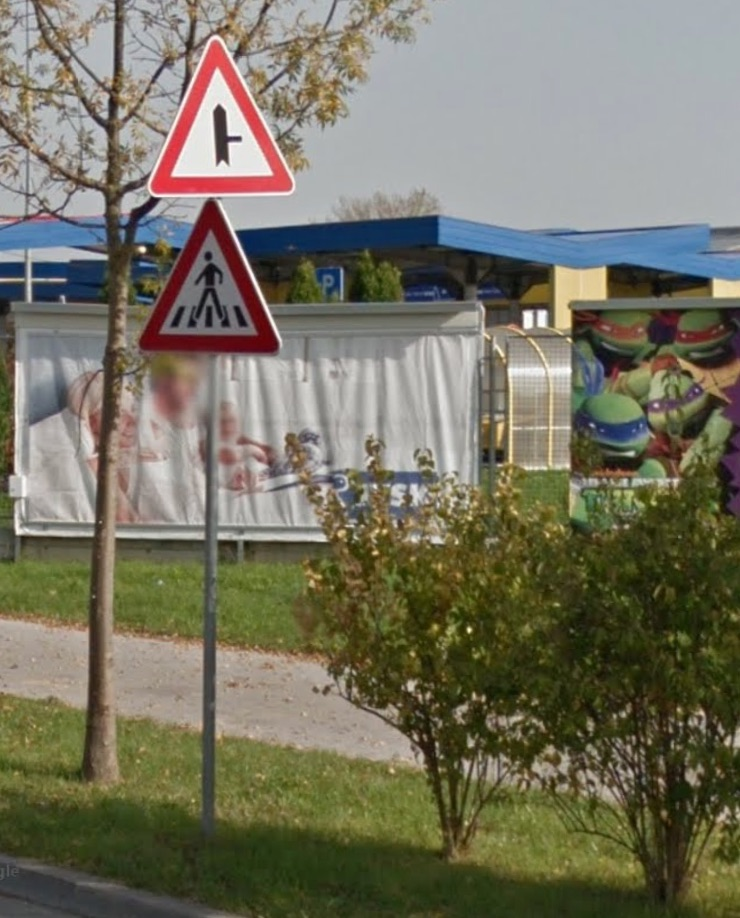Približavanje pješačkom prijelazu: (136, 197, 283, 357)
